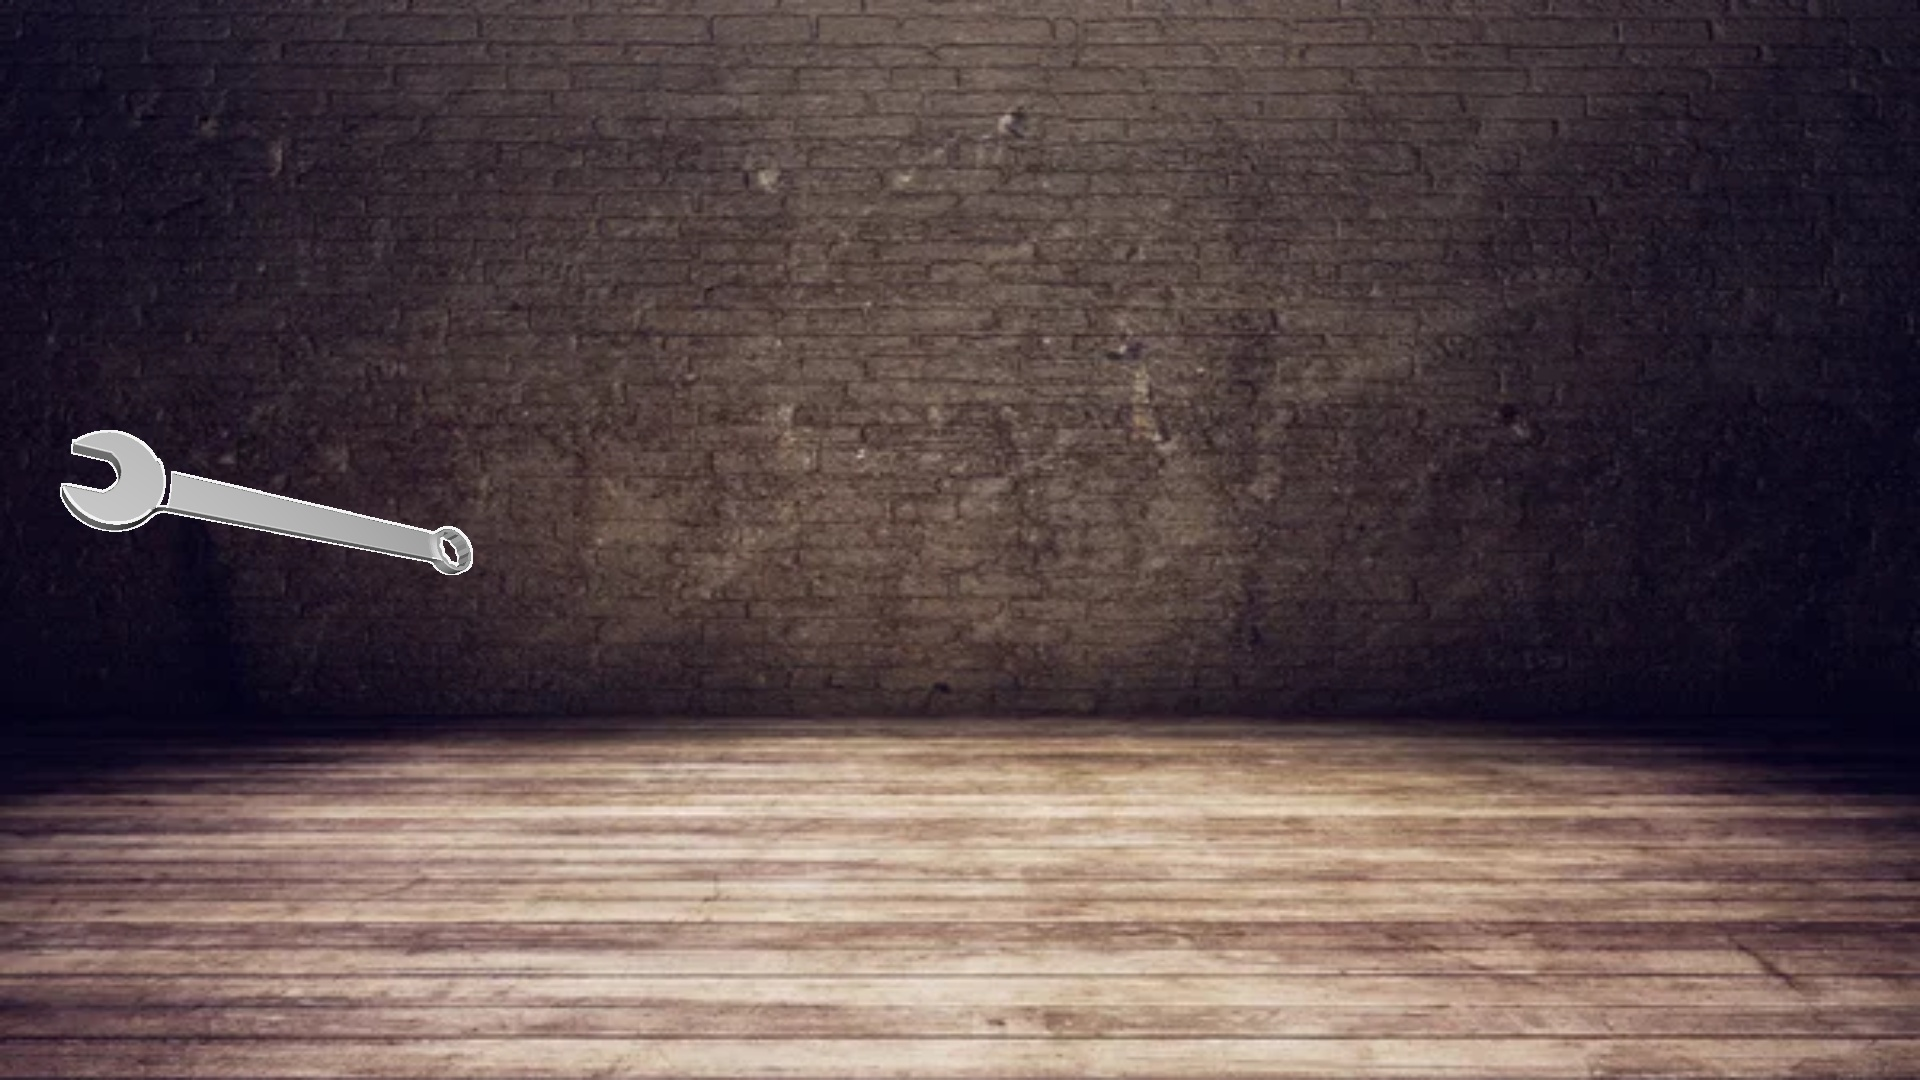Mixed Key: (61, 430, 472, 574)
